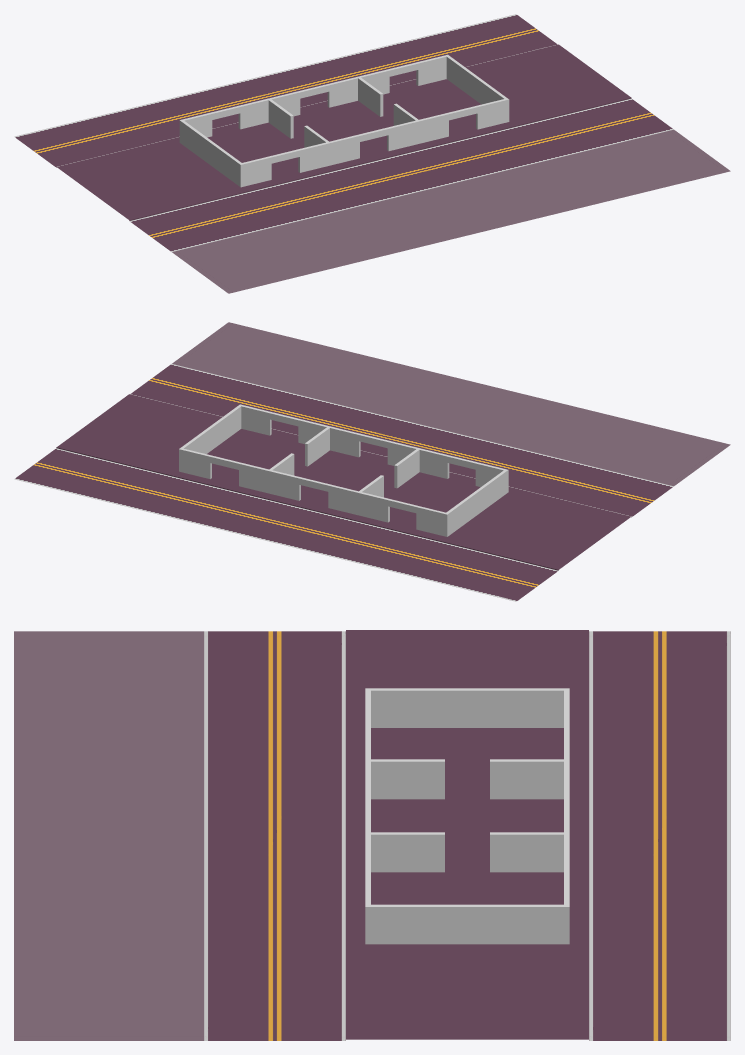
Rendered from Car_Fac_Walls.fbx.
3 renders of one model, top to bottom at view 1: azimuth 30°, elevation 25°; view 2: azimuth 150°, elevation 25°; view 3: azimuth 270°, elevation 25°, orthographic. The views are drawn at different scales.
Parts seen in each view (by area): view 1: Ground, Wall; view 2: Ground, Wall; view 3: Ground, Wall.
Boxes of the visible parts, x1,y1,x2,y2 form: Ground: [14, 14, 730, 293]; Wall: [179, 54, 509, 187]; Ground: [14, 322, 730, 601]; Wall: [179, 404, 508, 536]; Ground: [14, 630, 730, 1040]; Wall: [365, 688, 569, 944].
Size of the model in its own units: 236 by 10.46 by 175.
